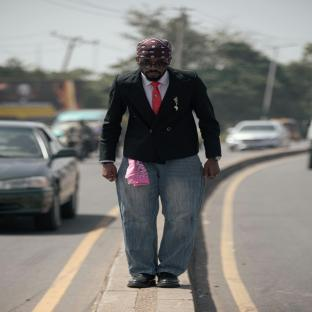Human: (99, 38, 221, 287)
